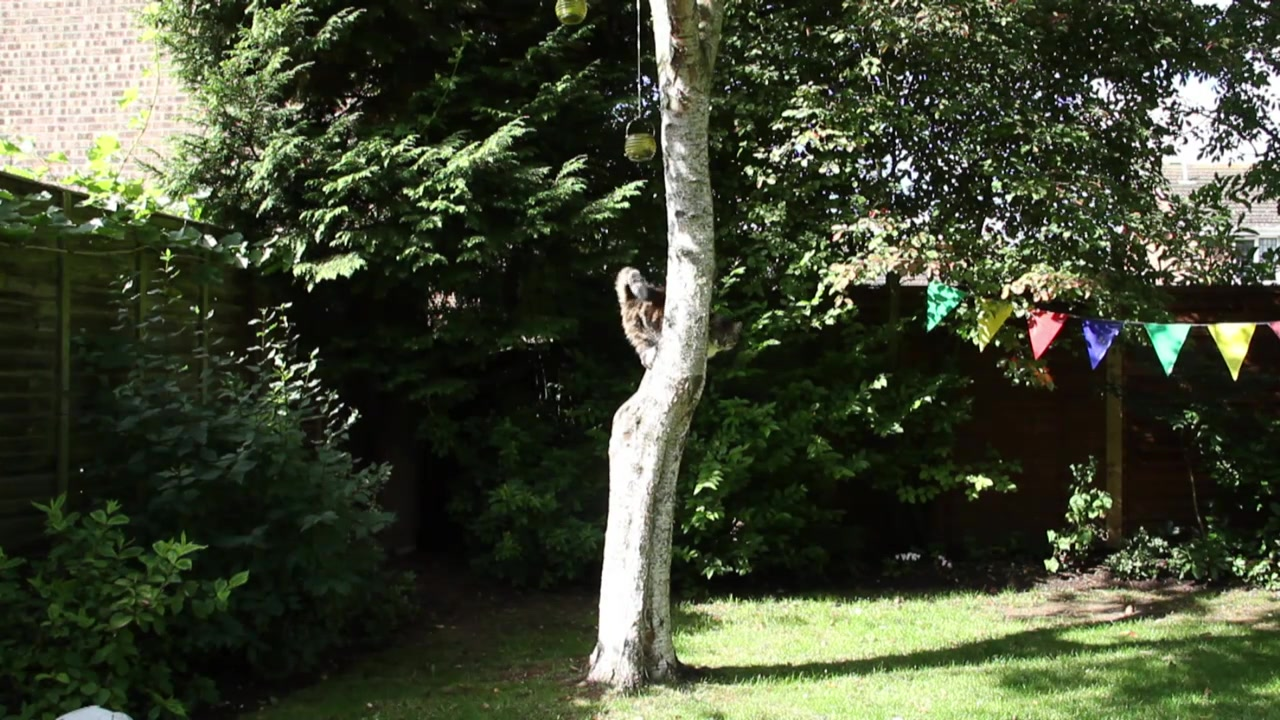cat: (615, 263, 669, 372)
